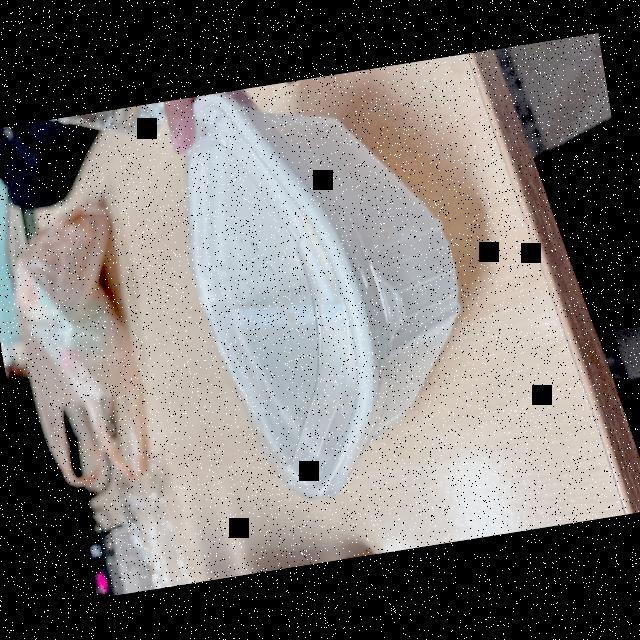plastic_box: (134, 64, 487, 522)
